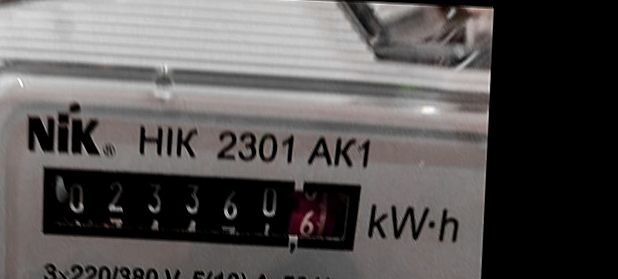0: (63, 177, 87, 213), (256, 182, 280, 218)
2: (103, 177, 126, 213)
3: (142, 179, 164, 215), (181, 180, 201, 214)
6: (218, 184, 240, 219), (295, 203, 315, 237)
screen: (24, 152, 380, 268)
